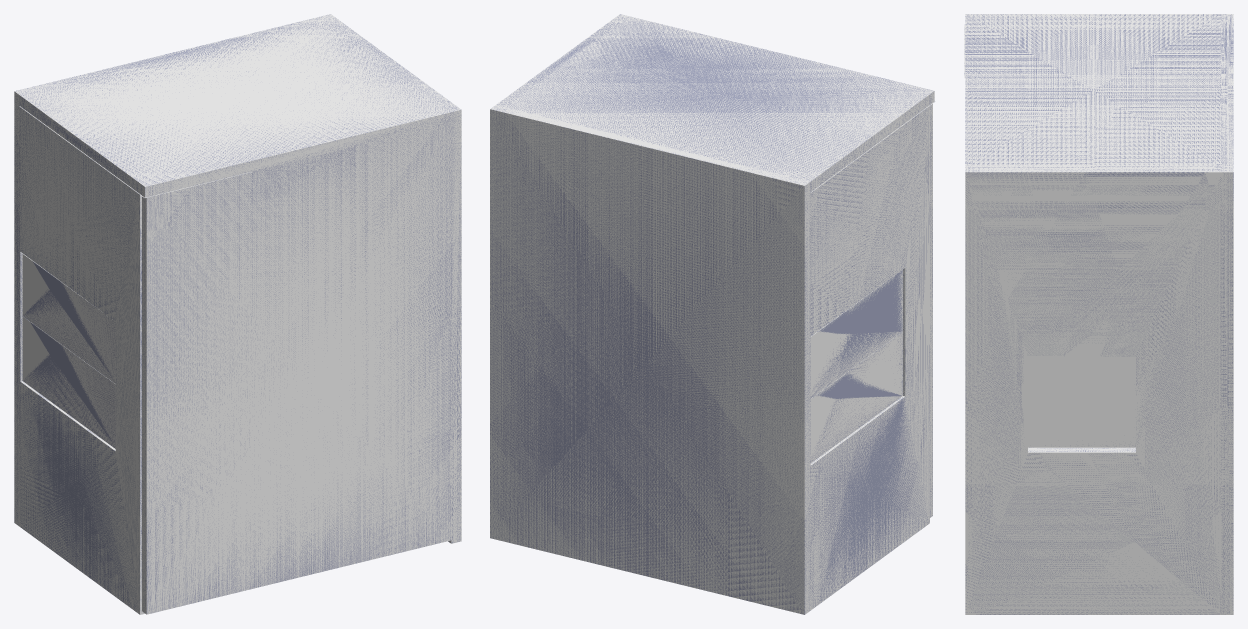
The model's file is VICTORIAN_ROOM_01.fbx.
3 renders of one model, left to right at view 1: azimuth 30°, elevation 25°; view 2: azimuth 150°, elevation 25°; view 3: azimuth 270°, elevation 25°, orthographic. The views are drawn at different scales.
Parts seen in each view (by area): view 1: Component_103_1, Component_2_1, Component_4_1, Component_9_2, Component_6_1, Component_9_1, Component_1_1; view 2: Component_1_1, Component_2_1, Component_4_1, Component_9_2, Component_9_1, Component_6_1, Component_103_1; view 3: Component_6_1, Component_2_1, Component_4_1, Component_1_1.
Part boxes in pixels (x1,y1,x2,y2): Component_103_1: [142, 123, 451, 614]; Component_2_1: [19, 21, 451, 203]; Component_4_1: [20, 107, 144, 614]; Component_9_2: [22, 316, 115, 448]; Component_6_1: [327, 18, 461, 543]; Component_9_1: [22, 254, 115, 383]; Component_1_1: [14, 14, 336, 526]; Component_1_1: [490, 105, 810, 614]; Component_2_1: [506, 16, 935, 192]; Component_4_1: [810, 106, 929, 610]; Component_9_2: [810, 332, 902, 462]; Component_9_1: [810, 270, 902, 398]; Component_6_1: [496, 14, 629, 107]; Component_103_1: [930, 104, 932, 517]; Component_6_1: [965, 167, 1221, 614]; Component_2_1: [964, 14, 1221, 167]; Component_4_1: [1028, 356, 1135, 447]; Component_1_1: [1221, 14, 1233, 614].
Bounding box in the file's own units: 4690 × 6096 × 3359.
